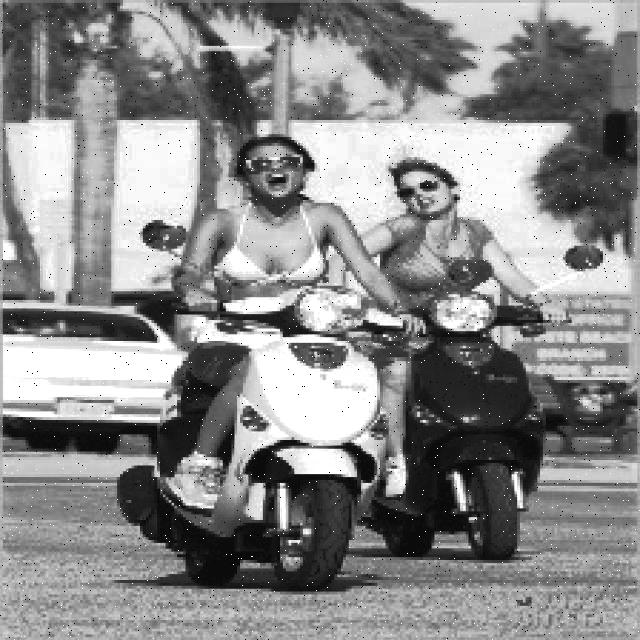Bike: (141, 281, 379, 592), (369, 292, 568, 564)
